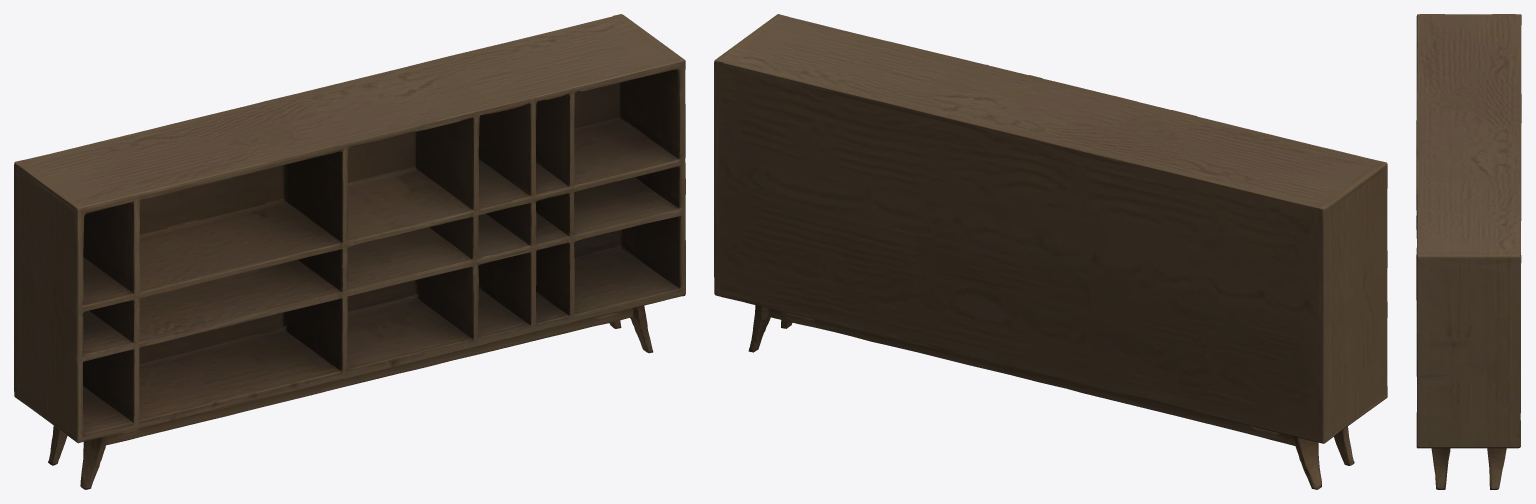
File: bcb47849-aba5-4ec0-8830-40207218c67c.glb
3 renders of one model, left to right at view 1: azimuth 30°, elevation 25°; view 2: azimuth 150°, elevation 25°; view 3: azimuth 270°, elevation 25°, orthographic. The views are drawn at different scales.
Visible parts, largest first — view 1: world; view 2: world; view 3: world.
Part boxes in pixels (x1,y1,x2,y2): world: (14,14,685,489); world: (714,14,1387,489); world: (1416,14,1521,489).
Bounding box in the file's own units: 1 × 0.4645 × 0.1834.
1 material, 1 textured.
